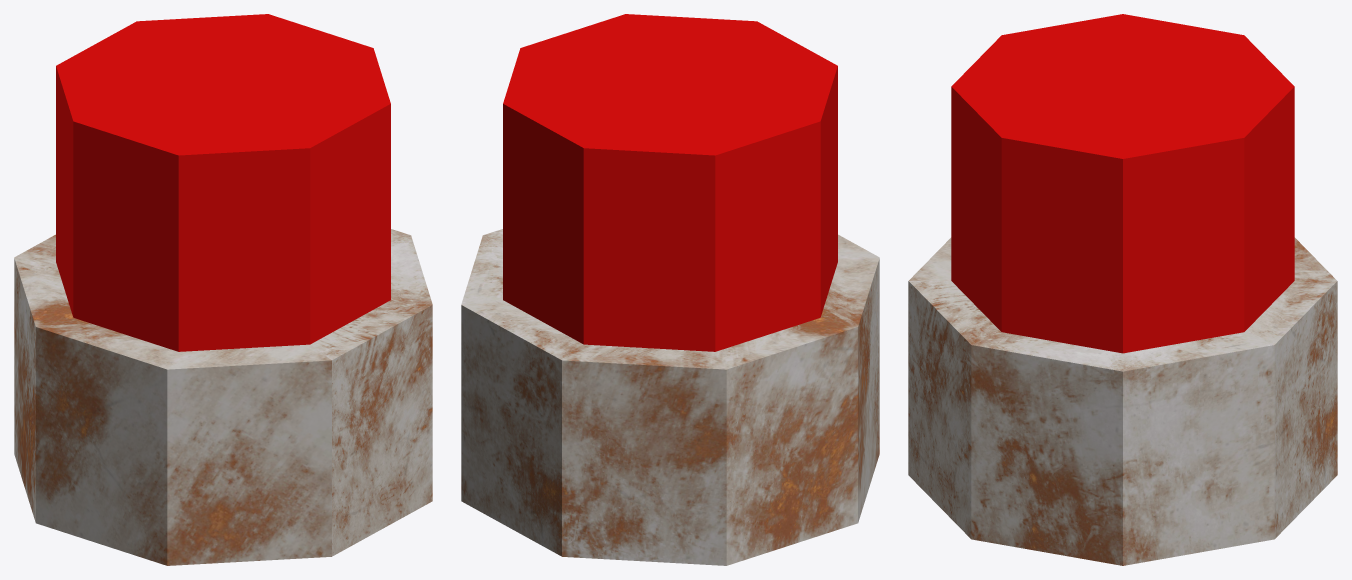
The model's file is PuzzleCompleteLight.fbx.
The picture shows the model from 3 angles, left to right: view 1: azimuth 30°, elevation 25°; view 2: azimuth 150°, elevation 25°; view 3: azimuth 270°, elevation 25°; orthographic projection.
Parts seen in each view (by area): view 1: Cylinder.013; view 2: Cylinder.013; view 3: Cylinder.013.
Boxes of the visible parts, bbox=[...] form: Cylinder.013: bbox=[14, 14, 432, 565]; Cylinder.013: bbox=[461, 14, 879, 565]; Cylinder.013: bbox=[908, 14, 1337, 565].
Bounding box in the file's own units: 2 × 2 × 2.
